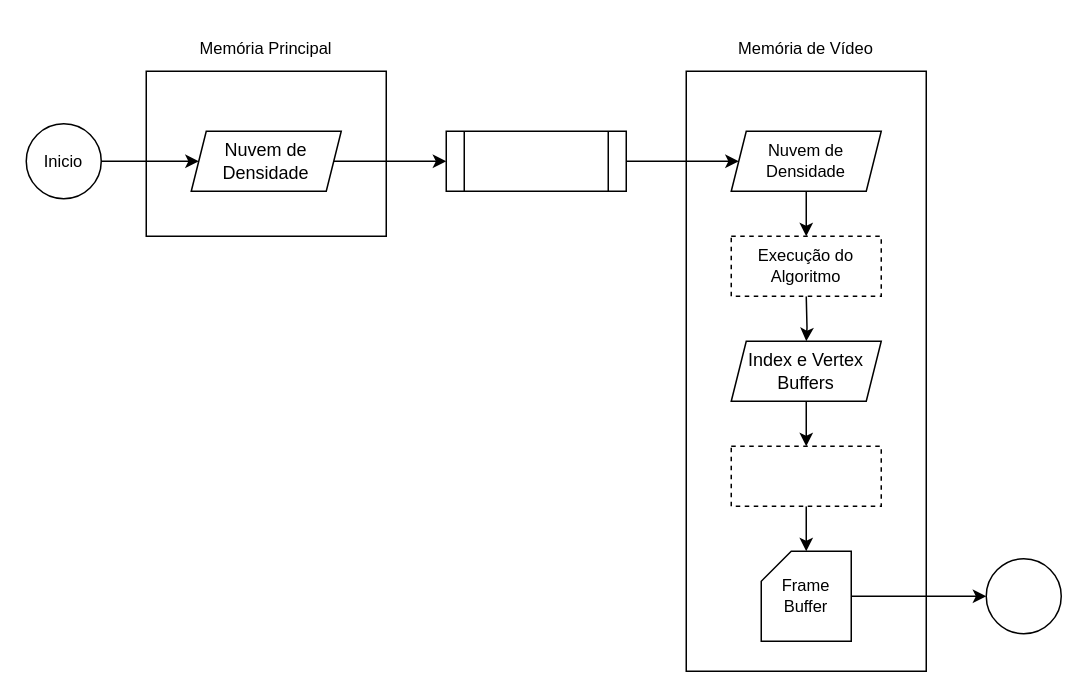
This 1088x698 diagram has some shape labels left out. The centre of each missing label's shape, as x and y in pixels:
Despache de Mesh Shader: (x=535, y=160)
Fim: (x=1023, y=595)
Rasterização e Processamento dos Fragmentos: (x=805, y=475)
